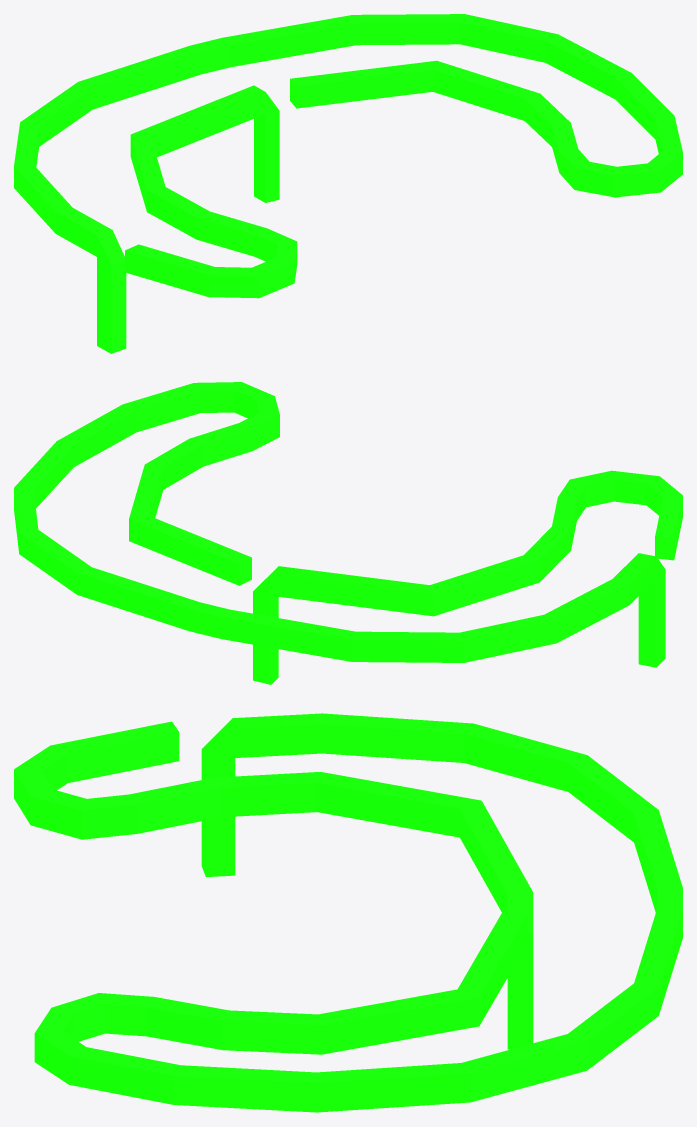
File: Alphabet_3D_04_C.FBX
3 views of the same model, one above another, from view 1: azimuth 30°, elevation 25°; view 2: azimuth 150°, elevation 25°; view 3: azimuth 270°, elevation 25° (orthographic). The views are drawn at different scales.
Visible parts, largest first — view 1: Alphabet_3D_04_C; view 2: Alphabet_3D_04_C; view 3: Alphabet_3D_04_C.
Part boxes in pixels (x1,y1,x2,y2): Alphabet_3D_04_C: (14, 14, 682, 353); Alphabet_3D_04_C: (14, 382, 682, 684); Alphabet_3D_04_C: (14, 713, 682, 1112).
Size of the model in its own units: 68.32 by 12.63 by 52.22.
